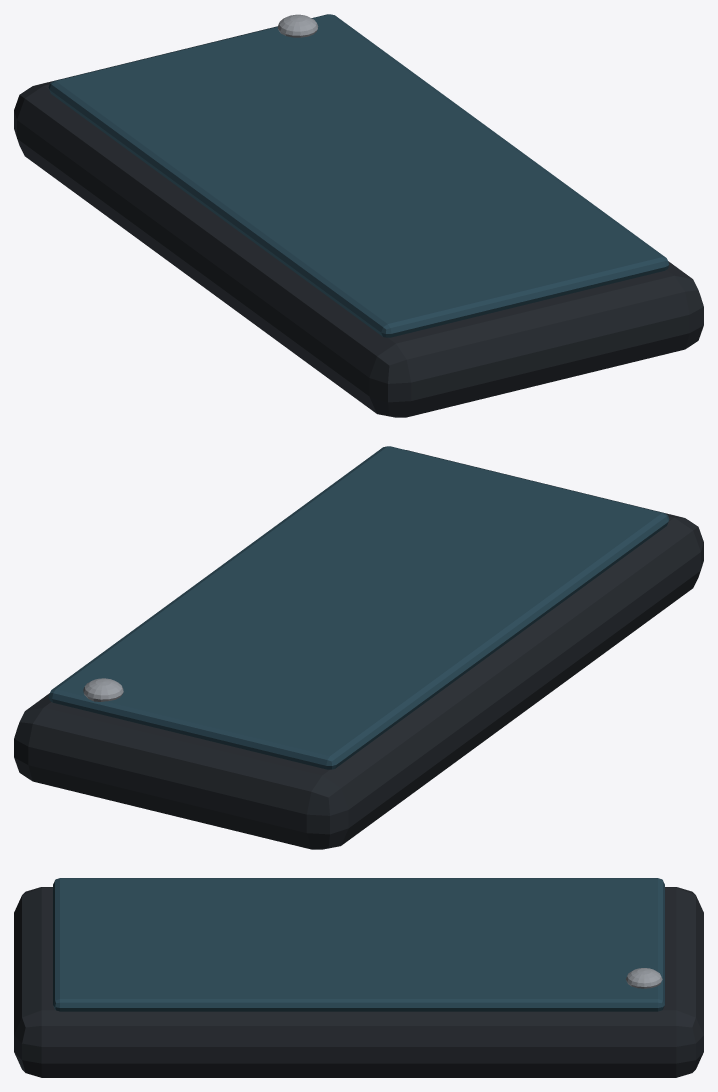
Rendered from smartphone.glb.
3 views of the same model, one above another, from view 1: azimuth 30°, elevation 25°; view 2: azimuth 150°, elevation 25°; view 3: azimuth 270°, elevation 25° (orthographic). The views are drawn at different scales.
Visible parts, largest first — view 1: smartphone; view 2: smartphone; view 3: smartphone.
Boxes of the visible parts, box(x1,y1,x2,y2) form: smartphone: box(14, 14, 703, 417); smartphone: box(14, 446, 703, 849); smartphone: box(14, 878, 703, 1077).
Bounding box in the file's own units: 0.075 × 0.021 × 0.15.
